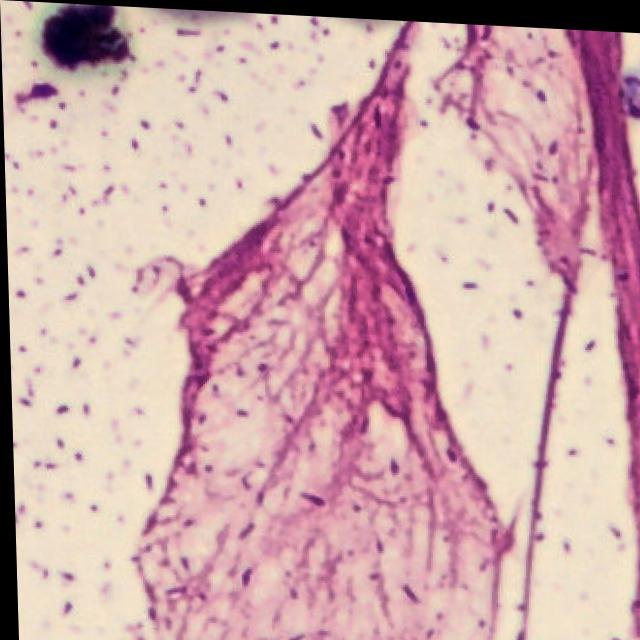Artefato: (129, 17, 640, 640)
